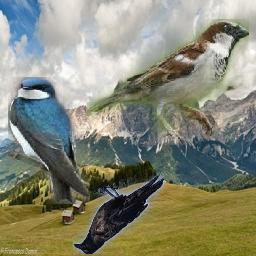Crow: (74, 172, 165, 254)
Sparrow: (87, 19, 249, 145)
Swallow: (8, 78, 90, 205)
